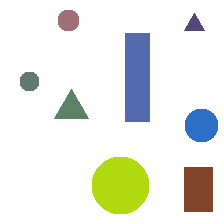circle: (92, 157, 148, 213), (185, 109, 217, 141), (58, 10, 78, 30), (20, 72, 38, 90)
rectangle: (125, 33, 149, 121), (184, 167, 212, 211)
triangle: (54, 89, 88, 118), (184, 13, 204, 30)
